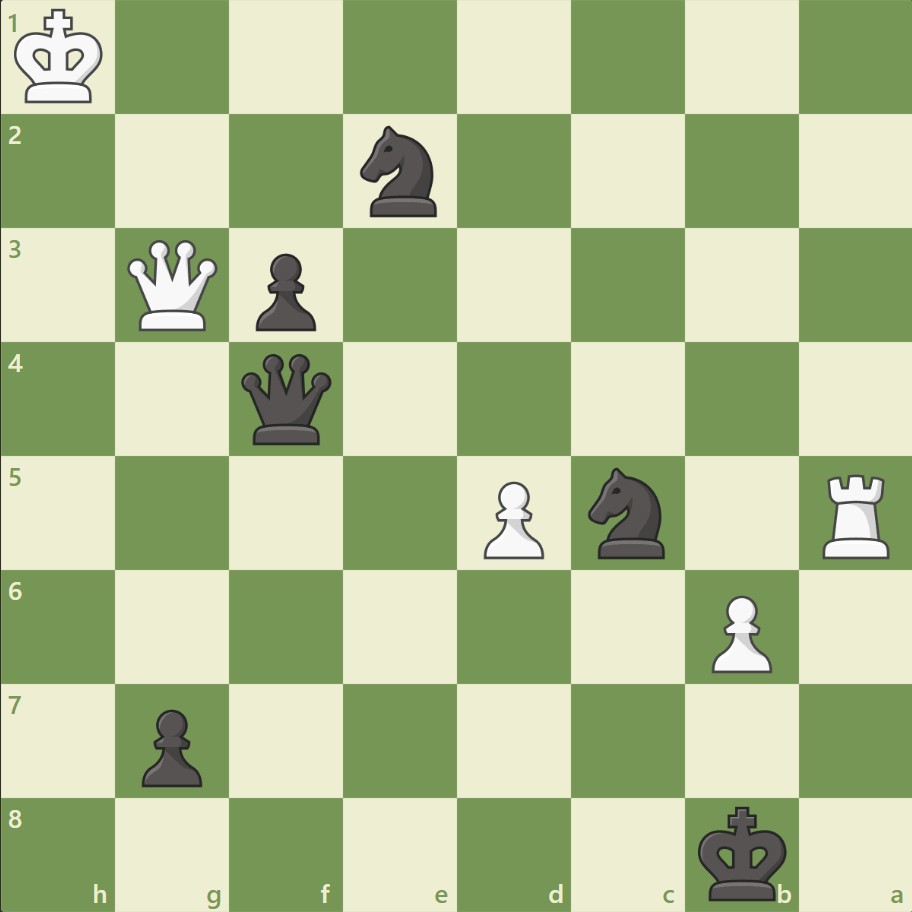K: (11, 4, 111, 112)
P: (701, 586, 776, 677), (474, 473, 549, 564)
Q: (124, 236, 223, 335)
R: (814, 466, 897, 563)
k: (692, 798, 792, 906)
n: (351, 121, 449, 223), (579, 461, 676, 564)
p: (133, 700, 208, 791), (247, 246, 322, 337)
q: (237, 349, 336, 449)
